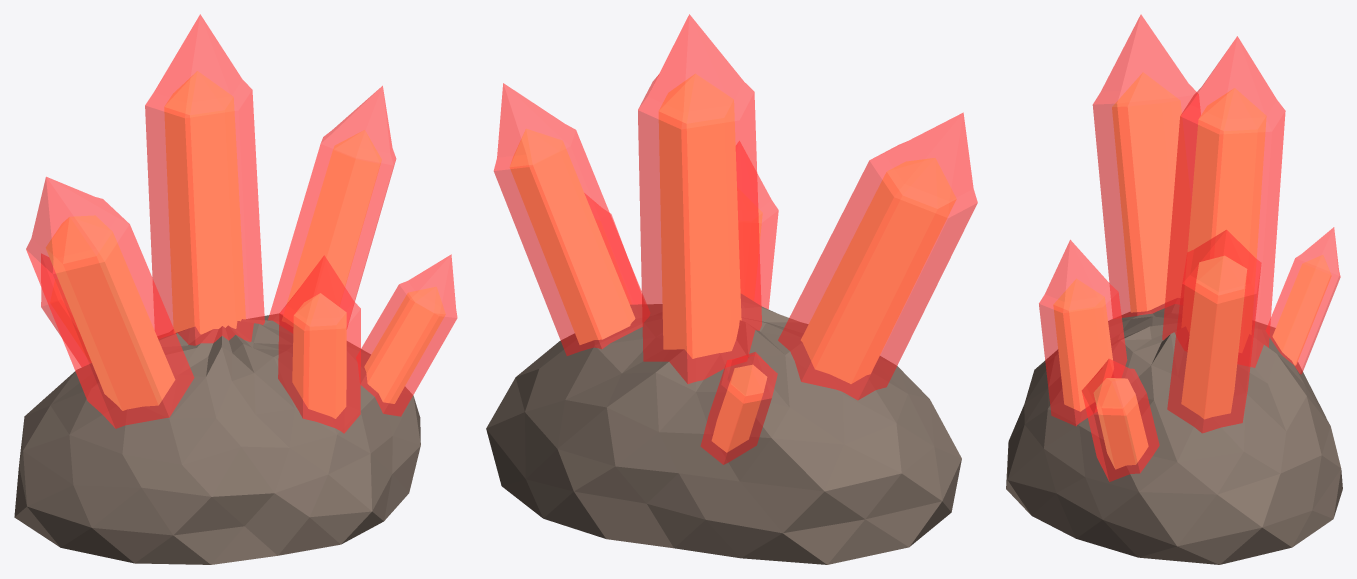
File: lair-crystal-column-877d1a.glb
3 views of the same model, side by side, from view 1: azimuth 30°, elevation 25°; view 2: azimuth 150°, elevation 25°; view 3: azimuth 270°, elevation 25° (orthographic). The views are drawn at different scales.
Parts seen in each view (by area): view 1: crystal-shells, rock, crystal-cores; view 2: crystal-shells, rock, crystal-cores; view 3: crystal-shells, rock, crystal-cores.
Boxes of the visible parts, box(x1,y1,x2,y2) form: crystal-shells: box(26, 14, 457, 433); rock: box(14, 313, 420, 564); crystal-cores: box(46, 71, 445, 418); crystal-shells: box(494, 14, 977, 464); rock: box(486, 294, 961, 564); crystal-cores: box(510, 74, 956, 452); crystal-shells: box(1039, 14, 1340, 481); rock: box(1006, 303, 1342, 564); crystal-cores: box(1053, 72, 1331, 469).
Bounding box in the file's own units: 1.51 × 1.64 × 1.13.
